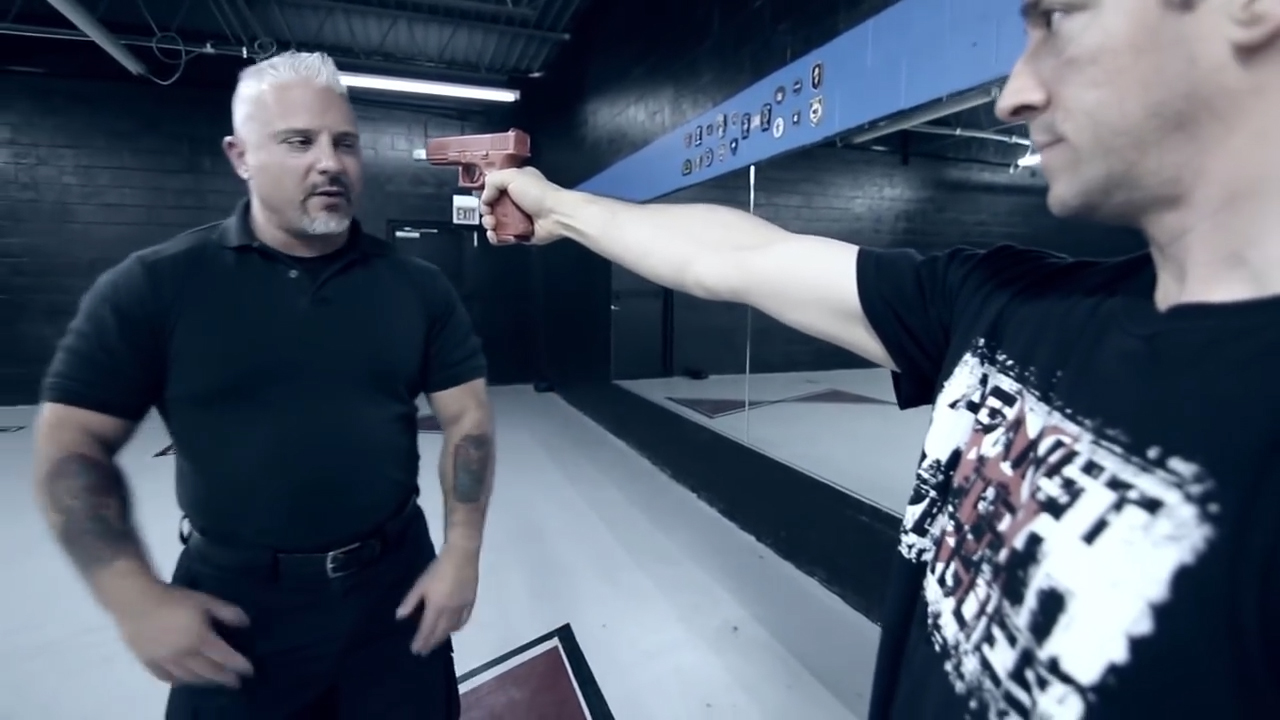pistol: (424, 127, 537, 240)
